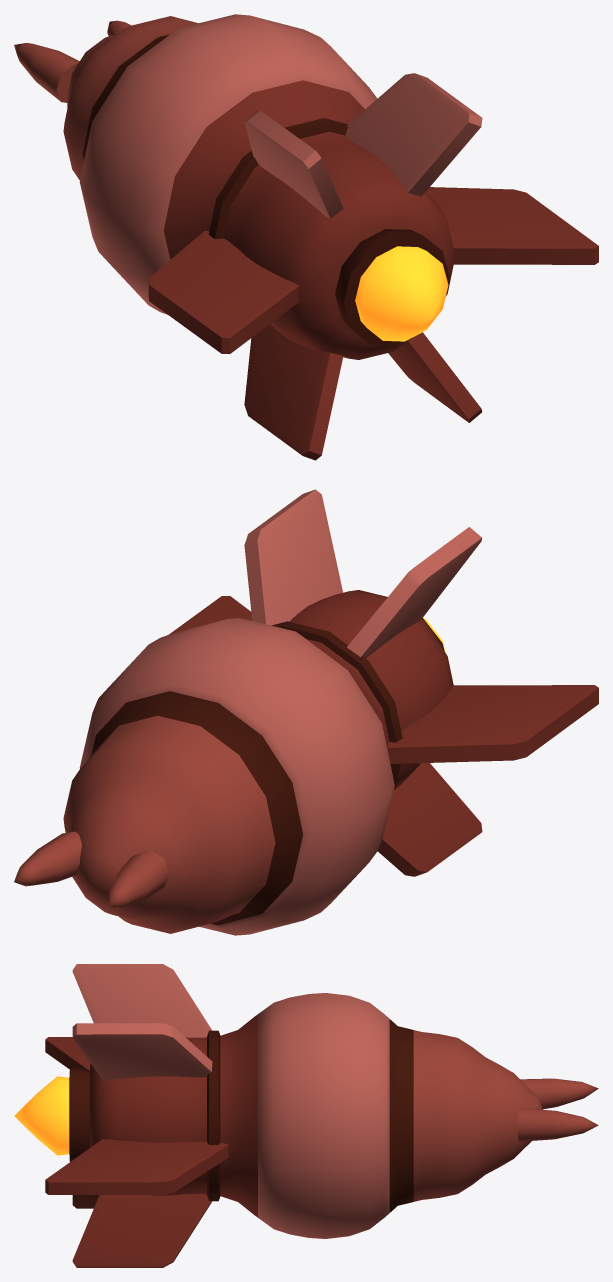
Rendered from shot_missile_red.glb.
3 views of the same model, one above another, from view 1: azimuth 30°, elevation 25°; view 2: azimuth 150°, elevation 25°; view 3: azimuth 270°, elevation 25° (orthographic). The views are drawn at different scales.
Visible parts, largest first — view 1: mr_body0, mr_body1, mr_fin.001, mr_fin, mr_fin.002, mr_fin.004, mr_flame, mr_body3, mr_fin.003, mr_nozzle, mr_fin.005, mr_ring (+2 smaller); view 2: mr_body1, mr_body3, mr_fin.001, mr_body0, mr_body2, mr_fin.002, mr_fin.004, mr_fin.003, mr_ring, mr_prong.001, mr_prong, mr_fin; view 3: mr_body1, mr_body3, mr_body0, mr_fin.005, mr_fin, mr_fin.003, mr_fin.002, mr_body2, mr_flame, mr_ring, mr_prong.001, mr_nozzle (+2 smaller).
Boxes of the visible parts, x1,y1,x2,y2 form: mr_body0: [163, 80, 454, 359]; mr_body1: [79, 14, 377, 314]; mr_fin.001: [148, 230, 298, 353]; mr_fin: [426, 187, 598, 264]; mr_fin.002: [345, 73, 482, 196]; mr_fin.004: [244, 324, 343, 460]; mr_flame: [355, 246, 448, 341]; mr_body3: [63, 16, 197, 180]; mr_fin.003: [244, 110, 343, 218]; mr_nozzle: [335, 229, 449, 345]; mr_fin.005: [388, 332, 481, 422]; mr_ring: [208, 118, 348, 239]; mr_body1: [79, 617, 394, 935]; mr_body3: [63, 715, 275, 933]; mr_fin.001: [387, 685, 598, 763]; mr_body0: [289, 590, 453, 788]; mr_body2: [91, 691, 302, 925]; mr_fin.002: [244, 489, 342, 625]; mr_fin.004: [377, 763, 482, 876]; mr_fin.003: [347, 527, 481, 658]; mr_ring: [271, 621, 402, 789]; mr_prong.001: [14, 831, 81, 886]; mr_prong: [107, 849, 169, 908]; mr_fin: [169, 596, 252, 634]; mr_body1: [258, 993, 389, 1238]; mr_body3: [413, 1030, 542, 1201]; mr_body0: [90, 1014, 257, 1217]; mr_fin.005: [72, 1193, 212, 1267]; mr_fin: [45, 1139, 228, 1194]; mr_fin.003: [72, 964, 211, 1037]; mr_fin.002: [72, 1023, 212, 1080]; mr_body2: [389, 1019, 413, 1212]; mr_flame: [14, 1076, 69, 1155]; mr_ring: [207, 1030, 220, 1201]; mr_prong.001: [517, 1108, 598, 1141]; mr_nozzle: [69, 1068, 89, 1161].
Size of the model in its own units: 8.6 by 6.75 by 14.63.
